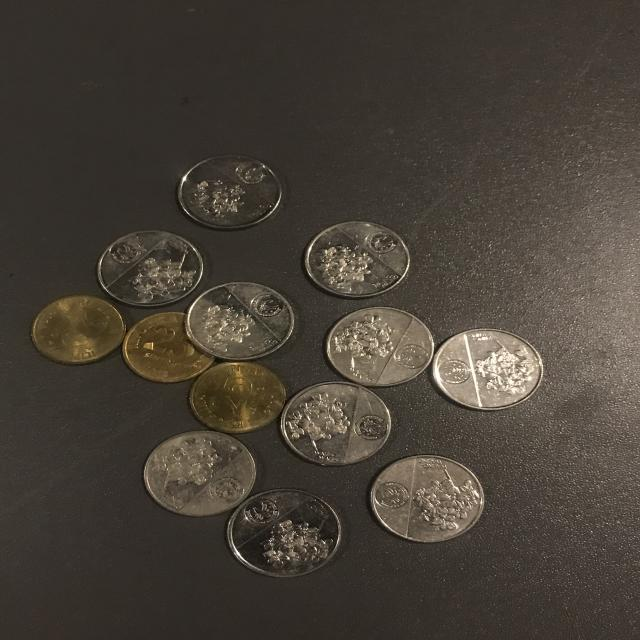1_New_Back: (405, 468, 482, 536), (258, 516, 341, 574), (326, 312, 397, 374), (472, 336, 540, 400), (130, 249, 198, 303)
25Cent_Old_Front: (205, 368, 268, 426), (136, 323, 202, 367)
